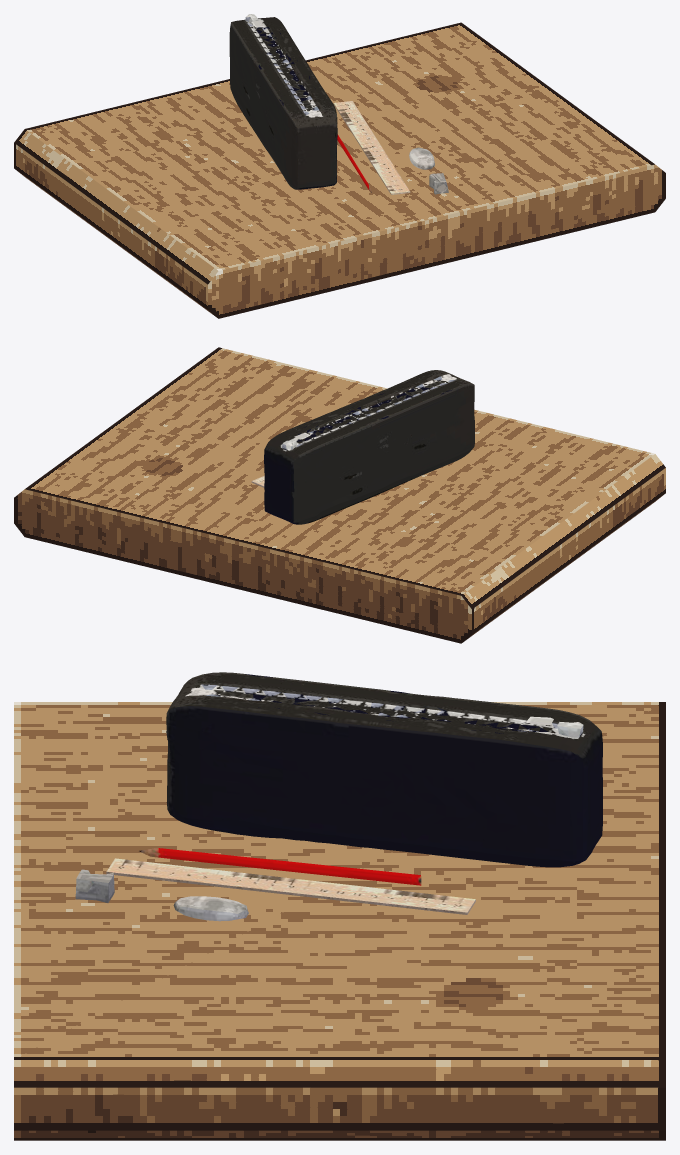
Rendered from fudebako.glb.
The picture shows the model from 3 angles, top to bottom: view 1: azimuth 30°, elevation 25°; view 2: azimuth 150°, elevation 25°; view 3: azimuth 270°, elevation 25°; orthographic projection. The views are drawn at different scales.
Visible parts, largest first — view 1: base, model_m; view 2: base, model_m; view 3: base, model_m.
Boxes of the visible parts, x1,y1,x2,y2 form: base: (14,22,665,318); model_m: (229,14,448,194); base: (14,347,665,643); model_m: (251,370,474,524); base: (14,702,665,1140); model_m: (75,672,602,921).
Size of the model in its own units: 30 by 8.29 by 22.
Materials: 2 (2 with a texture image).
